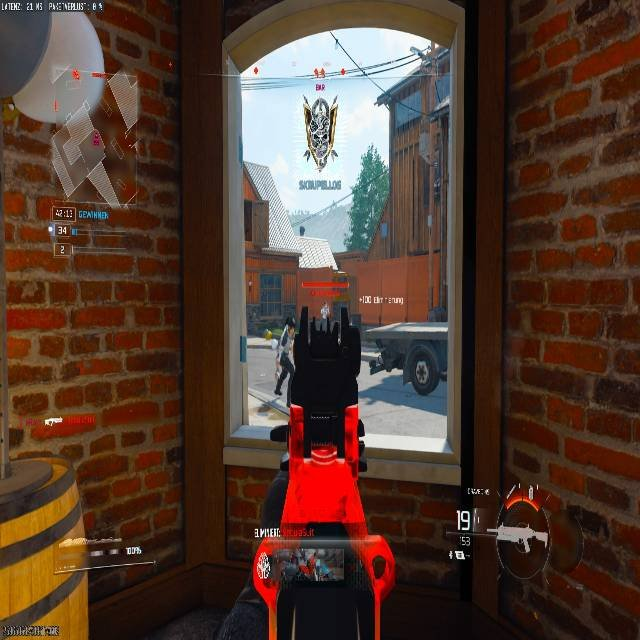player: (302, 88, 338, 171), (267, 314, 298, 397)
